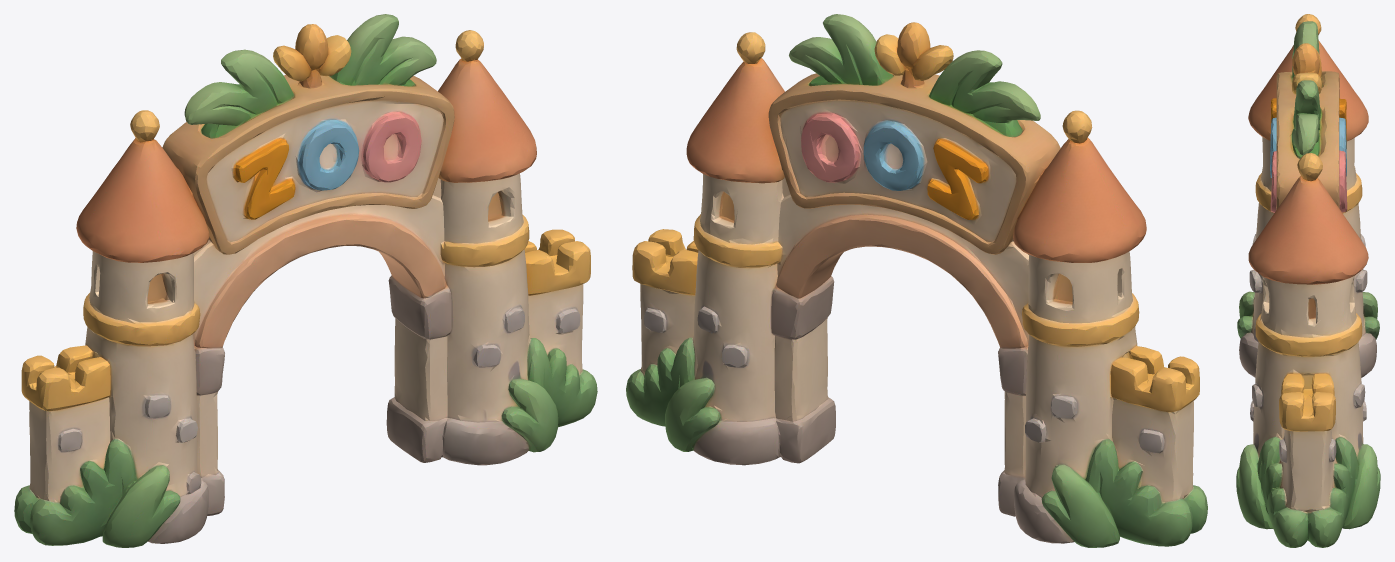
Rendered from entrance.glb.
The picture shows the model from 3 angles, left to right: view 1: azimuth 30°, elevation 25°; view 2: azimuth 150°, elevation 25°; view 3: azimuth 270°, elevation 25°; orthographic projection. The views are drawn at different scales.
Parts seen in each view (by area): view 1: Mesh; view 2: Mesh; view 3: Mesh.
Boxes of the visible parts, bbox=[...] form: Mesh: bbox=[14, 14, 597, 547]; Mesh: bbox=[626, 14, 1207, 547]; Mesh: bbox=[1236, 14, 1380, 547].
Size of the model in its own units: 1.9 by 1.46 by 0.4828.
1 material, 1 textured.
